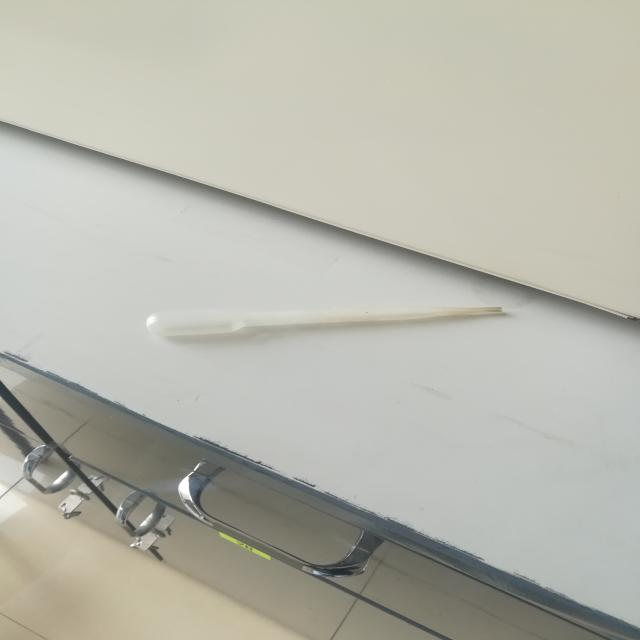Pipette: (119, 271, 526, 389)
